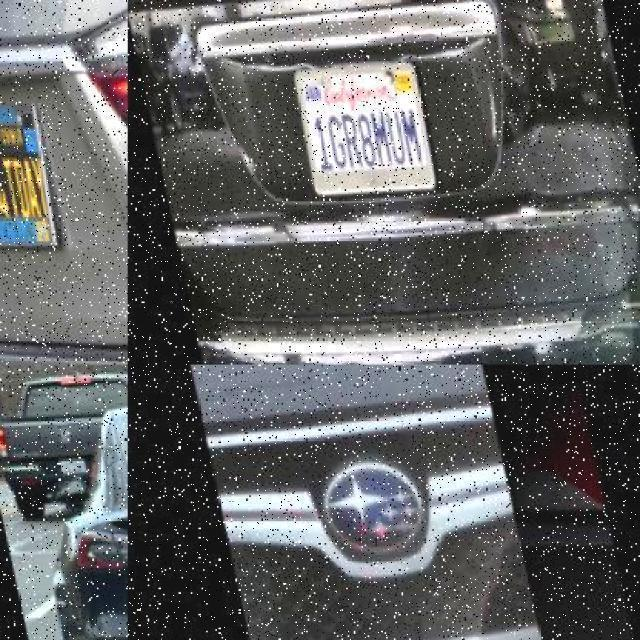license_plate: (282, 50, 434, 202), (0, 100, 52, 248)
